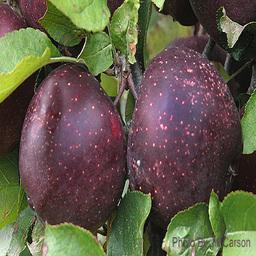apple: (128, 44, 240, 225), (17, 66, 124, 235)
